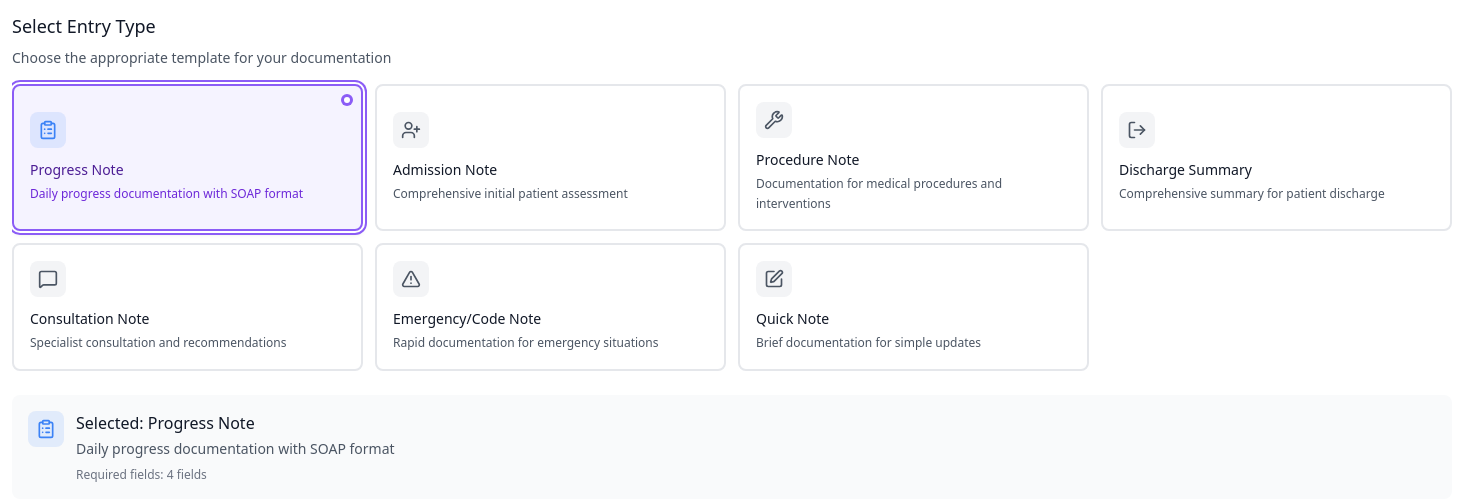
Scenario: ChartEntryTypeSelector › shows selected type summary
Click the radio button labelled "Admission Note Comprehensive initial patient assessment": (411, 130) [375,84,726,231]
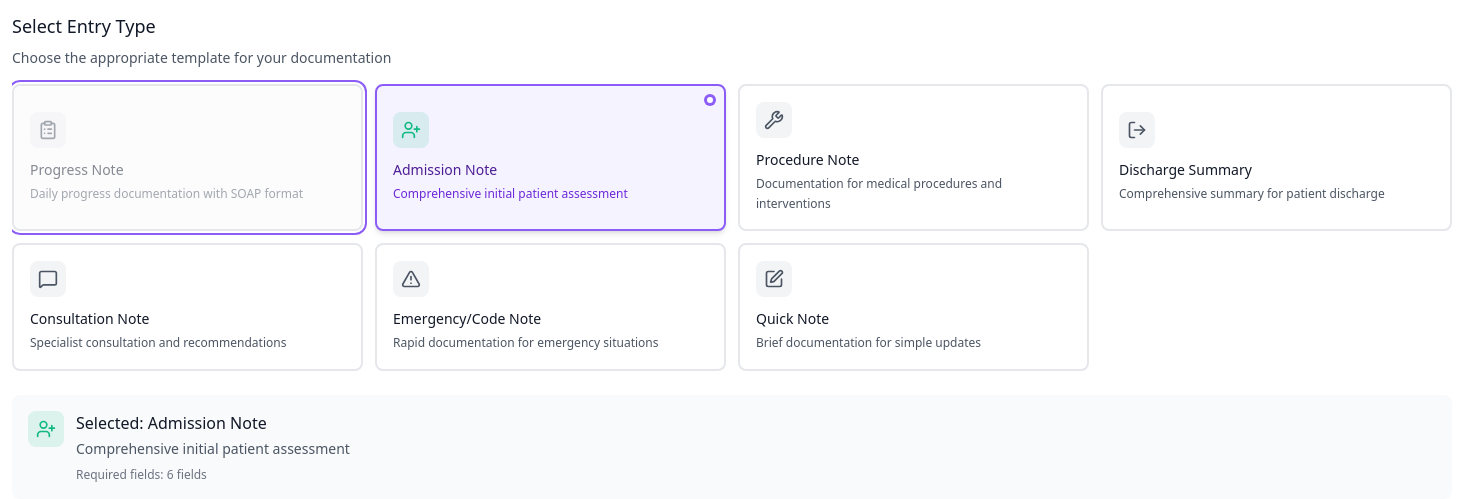
Expected: the 1st text "Comprehensive initial patient assessment" is shown, [393,185,628,202]
Result: the heading "Selected: Admission Note" is shown at [76,412,267,434]
